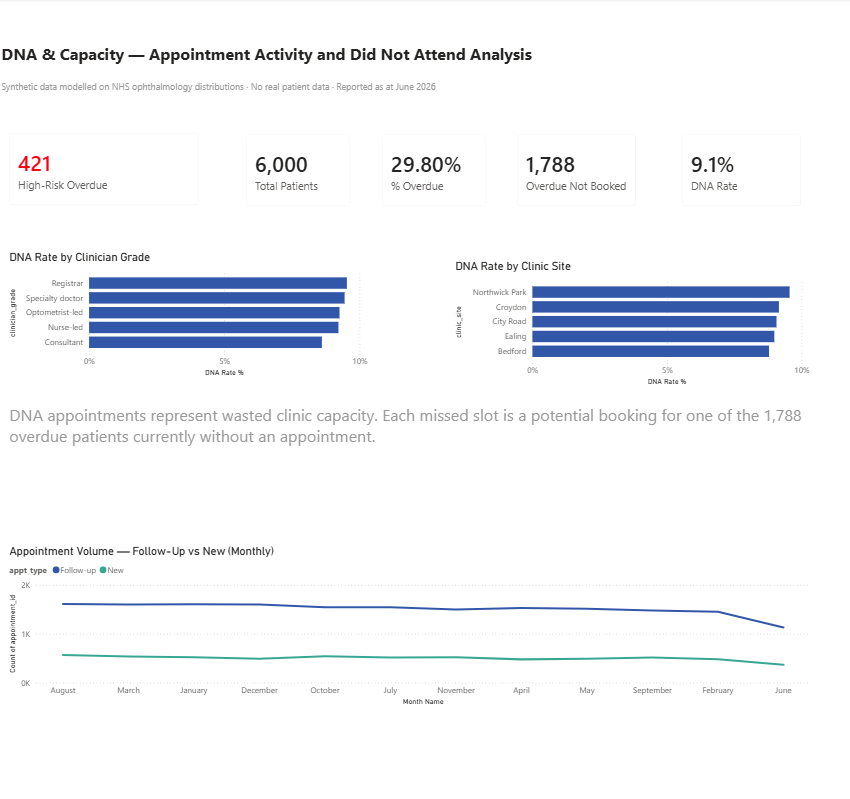

This screenshot's page, from the dashboard's own definition file:
{"tool":"powerbi","page":{"name":"DNA & Capacity","canvas":[1280,1200],"ordinal":3},"visuals":[{"type":"cardVisual","fields":{"Data":["_Measures.High-Risk Overdue"]},"box":[0,185.1,316.4,141.8],"z":0},{"type":"cardVisual","fields":{"Data":["_Measures.Total Patients"]},"box":[353.7,186.6,188.1,141.8],"z":1000},{"type":"cardVisual","fields":{"Data":["_Measures.% Overdue"]},"box":[556.7,186.6,188.1,141.8],"z":2000},{"type":"cardVisual","fields":{"Data":["_Measures.Overdue Not Booked"]},"box":[758.2,186.6,211.9,141.8],"z":3000},{"type":"cardVisual","fields":{"Data":["_Measures.DNA Rate"]},"box":[1004.5,186.6,211.9,141.8],"z":4000},{"type":"clusteredBarChart","title":"DNA Rate by Clinician Grade","fields":{"Category":["Appointments.clinician_grade"],"Y":["_Measures.DNA Rate %"]},"box":[11.9,376.1,544.8,194],"z":5000},{"type":"clusteredBarChart","title":"DNA Rate by Clinic Site","fields":{"Category":["Appointments.clinic_site"],"Y":["_Measures.DNA Rate %"]},"box":[677.6,389.6,538.8,194],"z":6000},{"type":"lineChart","title":"Appointment Volume — Follow-Up vs New (Monthly)","fields":{"Y":["CountNonNull(Appointments.appointment_id)"],"Series":["Appointments.appt_type"],"Category":["Appointments.Month Name"]},"box":[11.9,814.9,1204.5,246.3],"z":7000},{"type":"textbox","box":[0,61.2,822.4,56.7],"z":7001},{"type":"textbox","box":[0,117.9,822.4,38.8],"z":7002},{"type":"textbox","box":[11.9,600,1204.5,85.1],"z":7003}]}

Visuals, with their boxes in screenshot pixels (x1, y1, x2, y2), scaled from the page's 1280x1200 canvas onto the 850x799 screenshot:
cardVisual - _Measures.High-Risk Overdue: pyautogui.locateOnScreen(0, 123, 210, 218)
cardVisual - _Measures.Total Patients: pyautogui.locateOnScreen(235, 124, 360, 219)
cardVisual - _Measures.% Overdue: pyautogui.locateOnScreen(370, 124, 495, 219)
cardVisual - _Measures.Overdue Not Booked: pyautogui.locateOnScreen(503, 124, 644, 219)
cardVisual - _Measures.DNA Rate: pyautogui.locateOnScreen(667, 124, 808, 219)
"DNA Rate by Clinician Grade" clusteredBarChart: pyautogui.locateOnScreen(8, 250, 370, 380)
"DNA Rate by Clinic Site" clusteredBarChart: pyautogui.locateOnScreen(450, 259, 808, 389)
"Appointment Volume — Follow-Up vs New (Monthly)" lineChart: pyautogui.locateOnScreen(8, 543, 808, 707)
textbox: pyautogui.locateOnScreen(0, 41, 546, 79)
textbox: pyautogui.locateOnScreen(0, 79, 546, 104)
textbox: pyautogui.locateOnScreen(8, 400, 808, 456)
